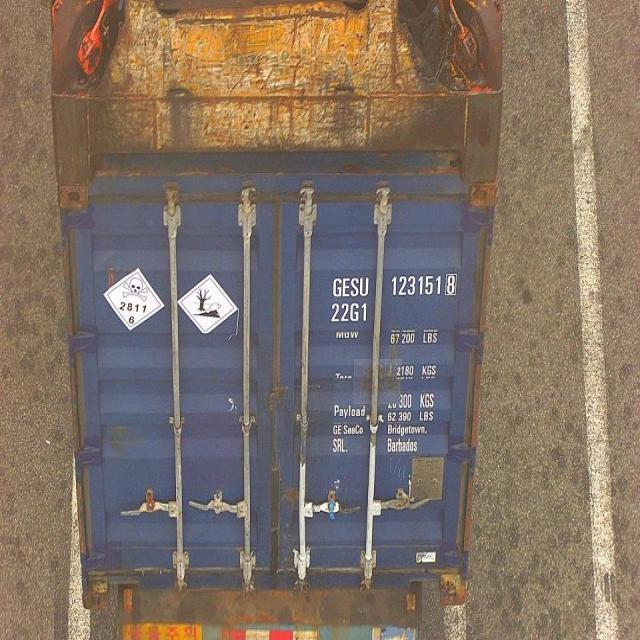ISO: (330, 298, 371, 326)
container_number: (327, 269, 464, 296)
